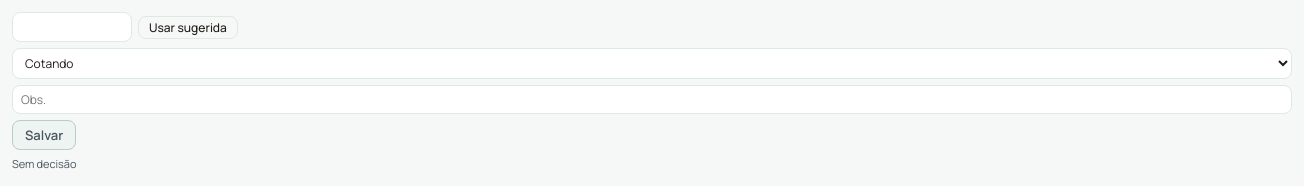
Test: ForecastDecisaoCompra (celula) › edicao: "Usar sugerida" preenche com a Qtd. final (3 casas), nao com a sugerida
This screenshot has width=1304, height=186.
Expected: the field named "Qtd. decidida (kg) de PRODUTO 001" is empty, [12,12,132,42]
Click the button "Usar sugerida" at coordinates (188, 27), box [138,16,238,38]
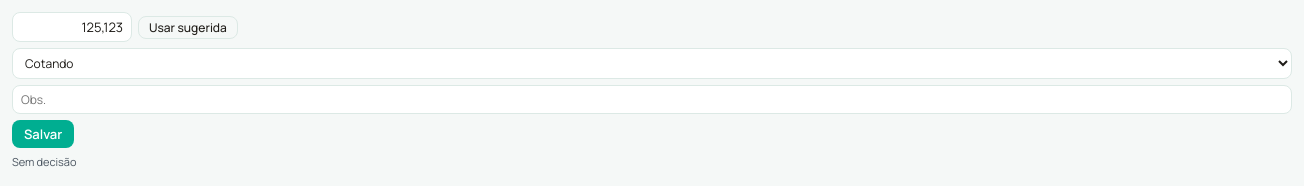
Result: the field named "Qtd. decidida (kg) de PRODUTO 001" holds "125,123" at [12,12,132,42]
